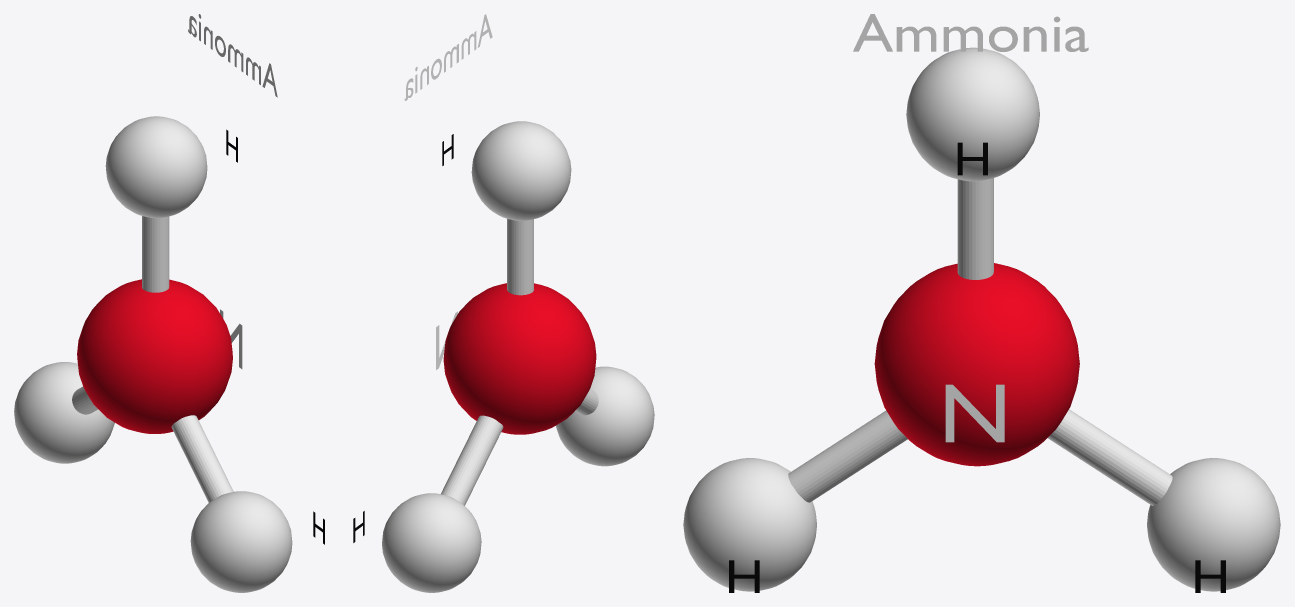
Rendered from amonia.glb.
The picture shows the model from 3 angles, left to right: view 1: azimuth 30°, elevation 25°; view 2: azimuth 150°, elevation 25°; view 3: azimuth 270°, elevation 25°; orthographic projection. The views are drawn at different scales.
Parts seen in each view (by area): view 1: Sphere, Sphere.002, Sphere.001, Sphere.003, Cylinder.002, Cylinder, Text.012, Cylinder.001; view 2: Sphere, Sphere.001, Sphere.003, Sphere.002, Cylinder.001, Cylinder, Text.012; view 3: Sphere, Sphere.001, Sphere.003, Sphere.002, Cylinder.001, Cylinder.002, Cylinder, Text.012, Text.008.
Part boxes in pixels (x1,y1,x2,y2): Sphere: [77, 279, 232, 433]; Sphere.002: [190, 491, 292, 592]; Sphere.001: [105, 116, 207, 218]; Sphere.003: [14, 362, 114, 463]; Cylinder.002: [171, 415, 233, 502]; Cylinder: [142, 216, 169, 292]; Text.012: [188, 14, 277, 97]; Cylinder.001: [72, 386, 97, 414]; Sphere: [443, 283, 596, 434]; Sphere.001: [471, 121, 571, 220]; Sphere.003: [382, 493, 481, 592]; Sphere.002: [556, 366, 654, 466]; Cylinder.001: [441, 415, 503, 505]; Cylinder: [507, 219, 533, 295]; Text.012: [404, 14, 492, 100]; Sphere: [874, 263, 1079, 466]; Sphere.001: [906, 47, 1039, 181]; Sphere.003: [1147, 458, 1280, 591]; Sphere.002: [683, 458, 816, 591]; Cylinder.001: [1048, 409, 1172, 505]; Cylinder.002: [788, 410, 907, 502]; Cylinder: [957, 178, 993, 279]; Text.012: [853, 14, 1088, 51]; Text.008: [945, 384, 1004, 442].
Size of the model in its own units: 3.24 by 10.22 by 8.93.
